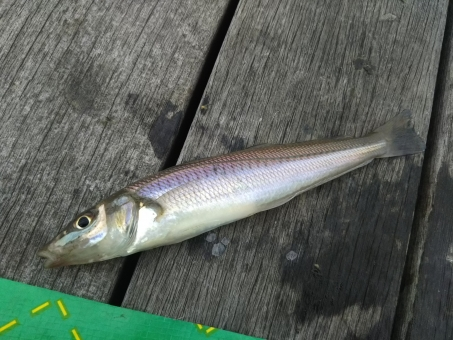kiss: (38, 107, 427, 282)
